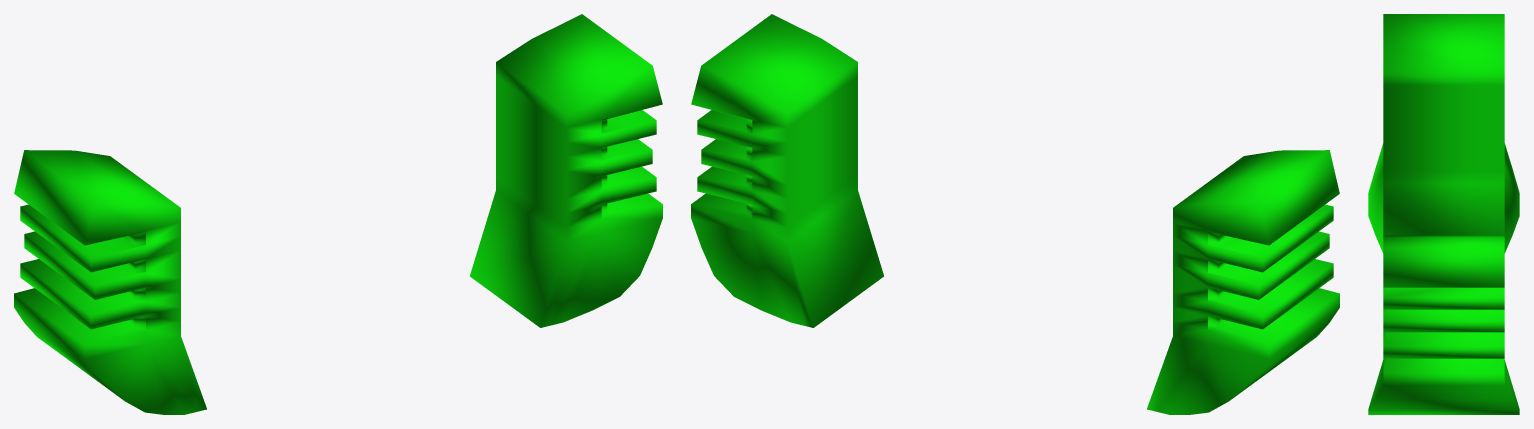
File: hoverboard_rubber_green.dae
3 renders of one model, left to right at view 1: azimuth 30°, elevation 25°; view 2: azimuth 150°, elevation 25°; view 3: azimuth 270°, elevation 25°, orthographic. The views are drawn at different scales.
Parts seen in each view (by area): view 1: Torus_001; view 2: Torus_001; view 3: Torus_001.
Boxes of the visible parts, x1,y1,x2,y2 form: Torus_001: (14,14,662,414); Torus_001: (691,14,1339,414); Torus_001: (1368,14,1519,414).
Bounding box in the file's own units: 4.26 × 1.13 × 1.65.
